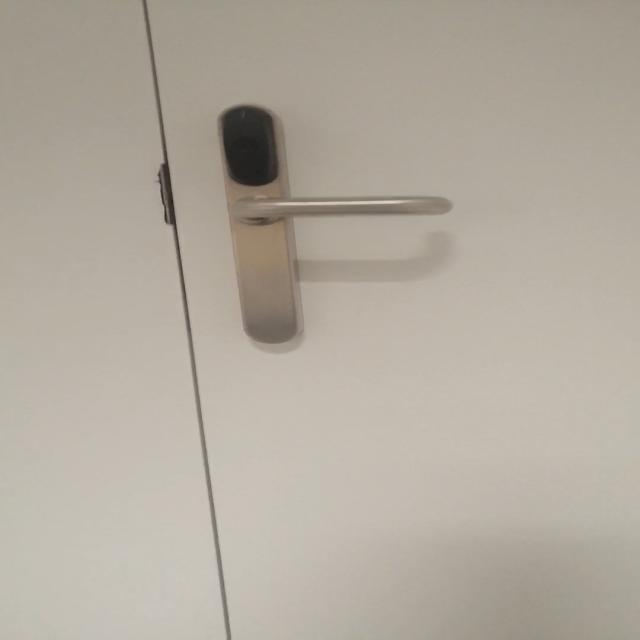door_handle: (210, 188, 477, 232)
